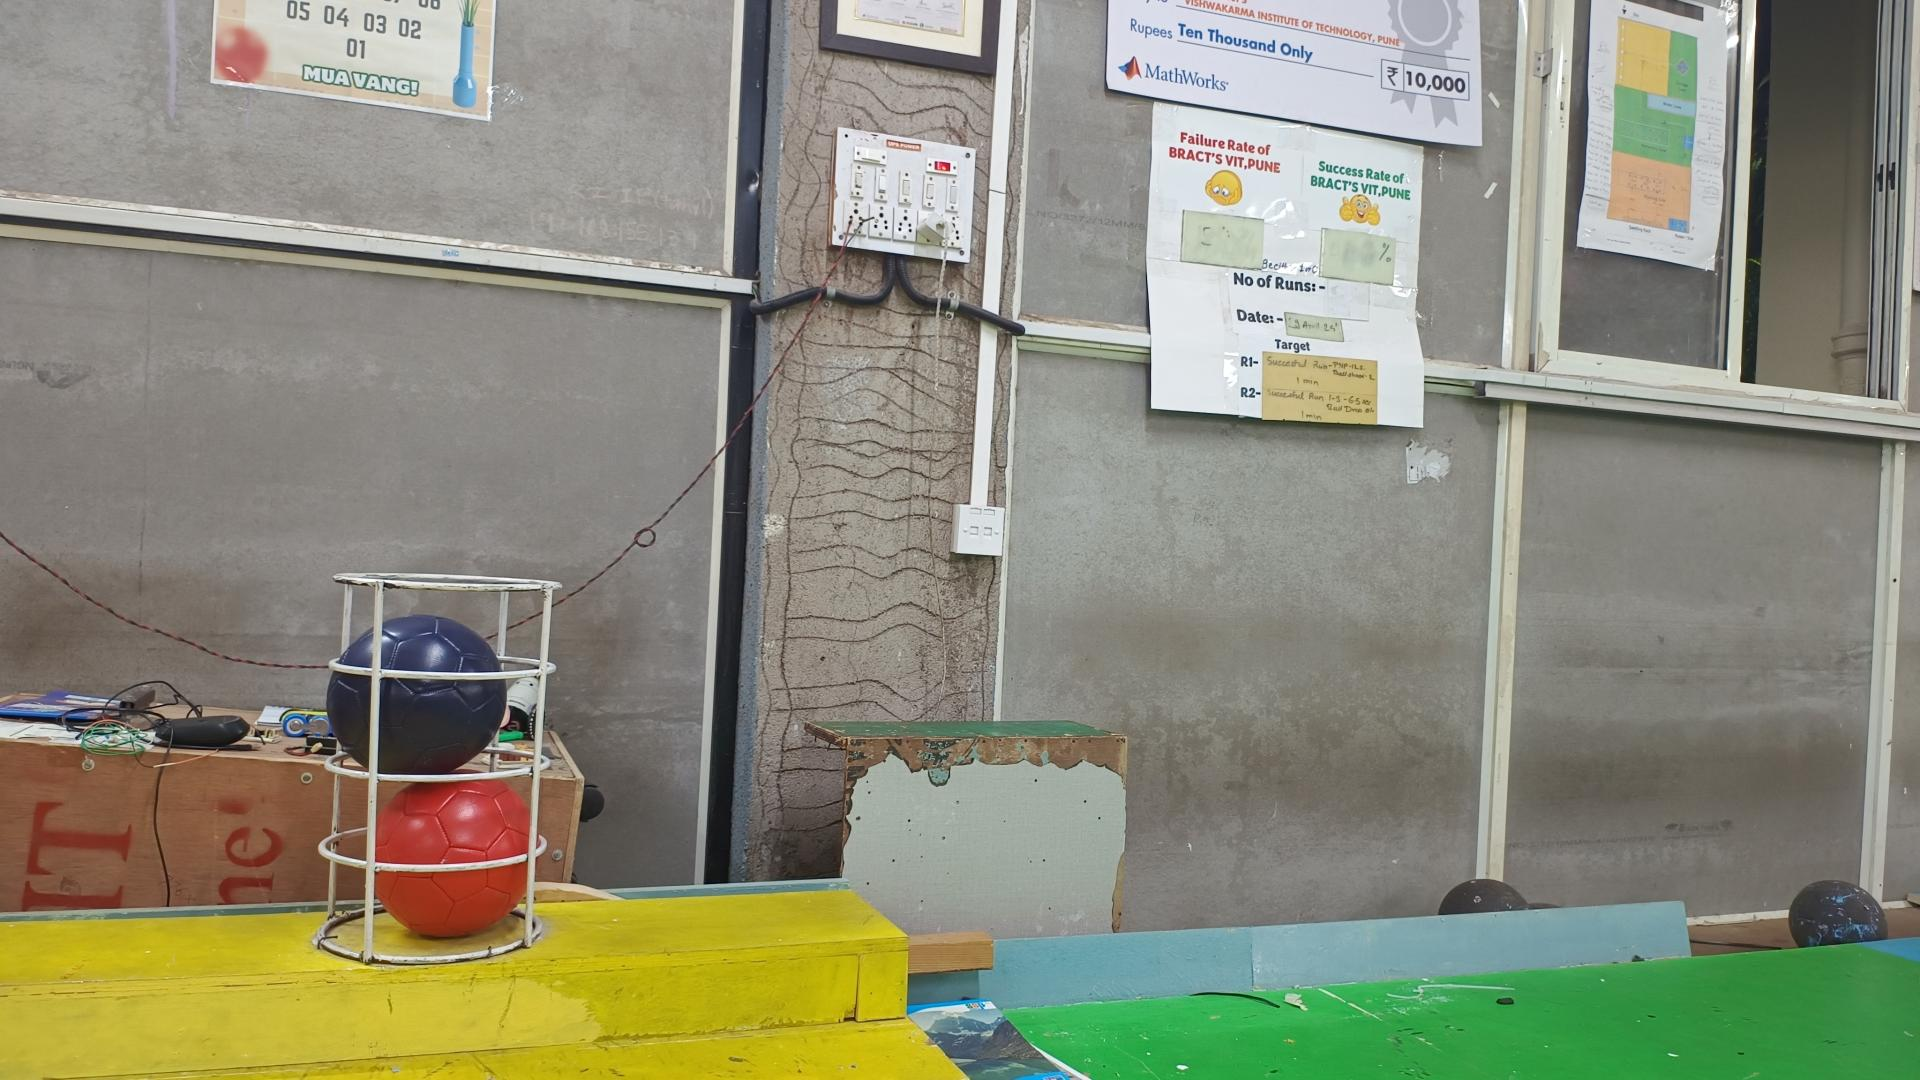dhoka: (326, 615, 506, 777)
laale: (372, 781, 541, 938)
